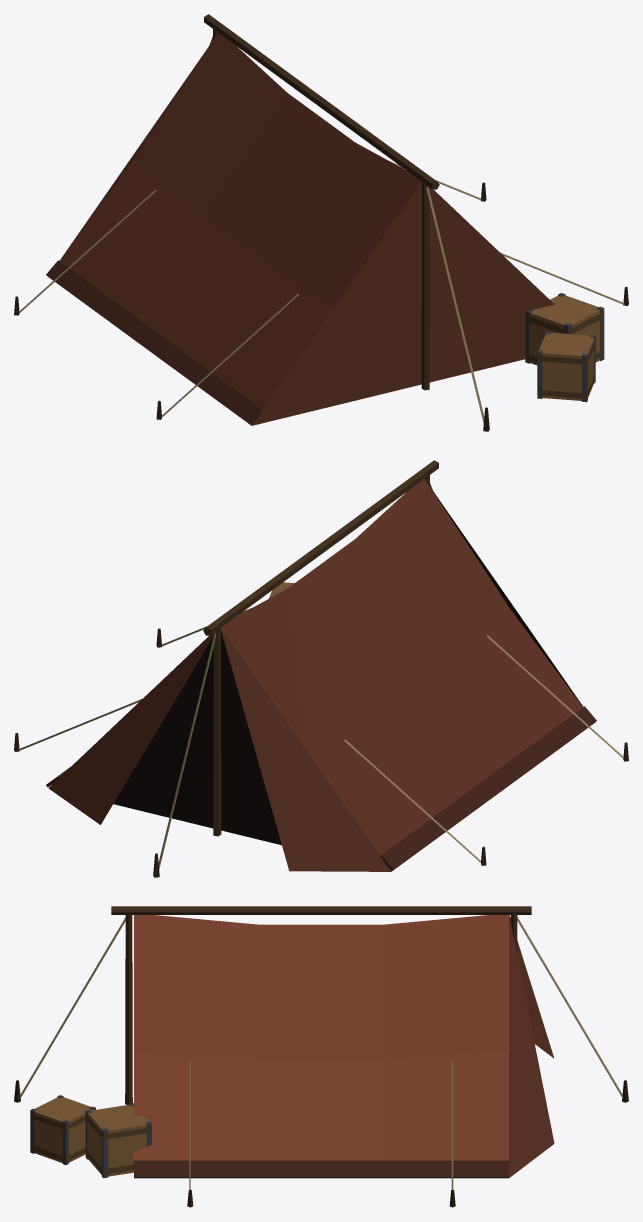
The model's file is dk_tent_a.glb.
3 renders of one model, top to bottom at view 1: azimuth 30°, elevation 25°; view 2: azimuth 150°, elevation 25°; view 3: azimuth 270°, elevation 25°, orthographic. The views are drawn at different scales.
Parts seen in each view (by area): view 1: dk_tent_a; view 2: dk_tent_a; view 3: dk_tent_a.
Boxes of the visible parts, x1,y1,x2,y2 form: dk_tent_a: (14,14,628,431); dk_tent_a: (14,460,628,877); dk_tent_a: (14,906,628,1207).
Bounding box in the file's own units: 9.92 × 4.31 × 12.14.
Materials: 1 (1 with a texture image).
